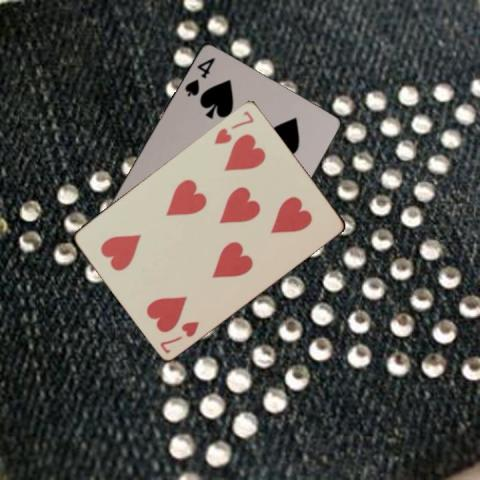4s: (181, 54, 217, 97)
7h: (156, 317, 200, 355), (212, 108, 255, 146)
